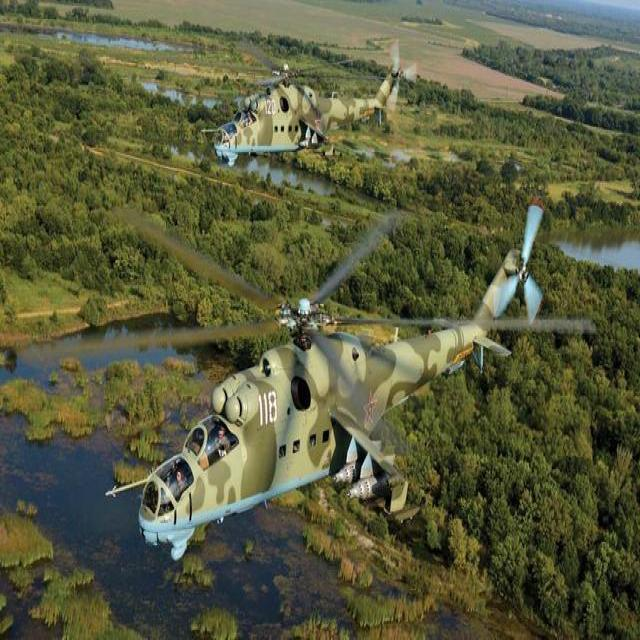MIL_HELO: (77, 187, 581, 589), (152, 50, 414, 169)
